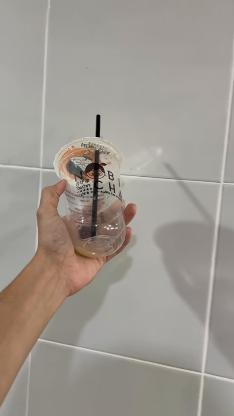Plastic Cup: (54, 136, 127, 258)
